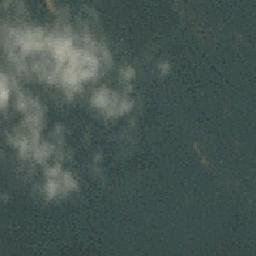cloud: (1, 1, 138, 192)
